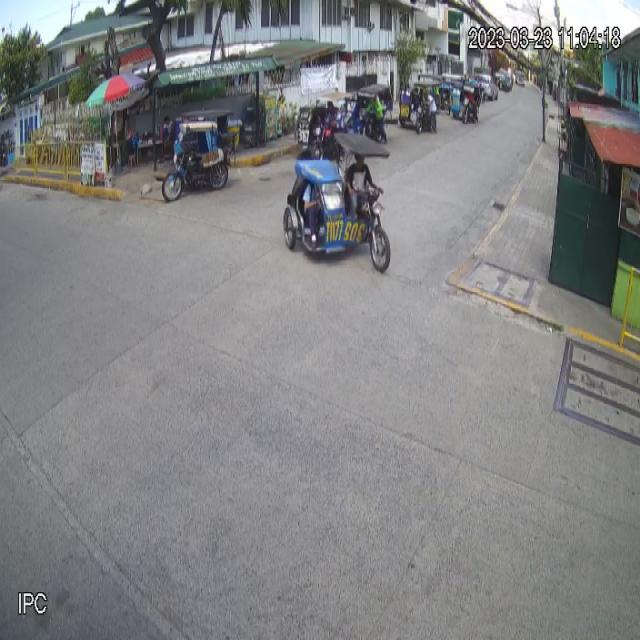Tricycle: (283, 130, 392, 277)
